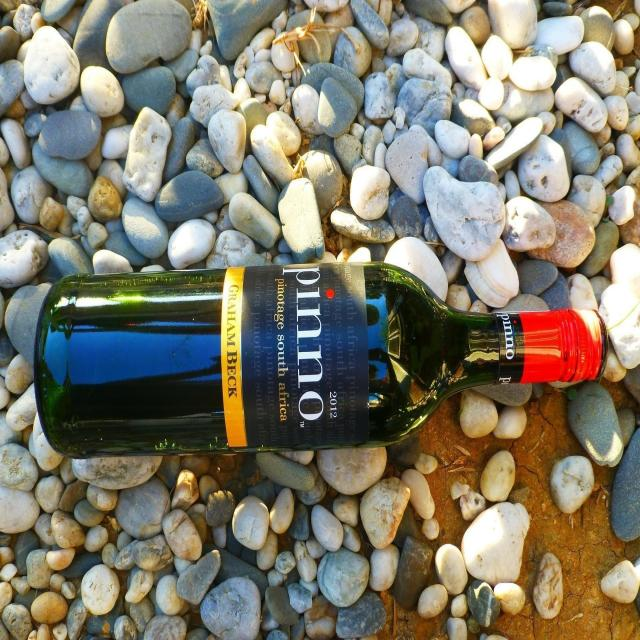bottle-glass: (32, 259, 608, 460)
